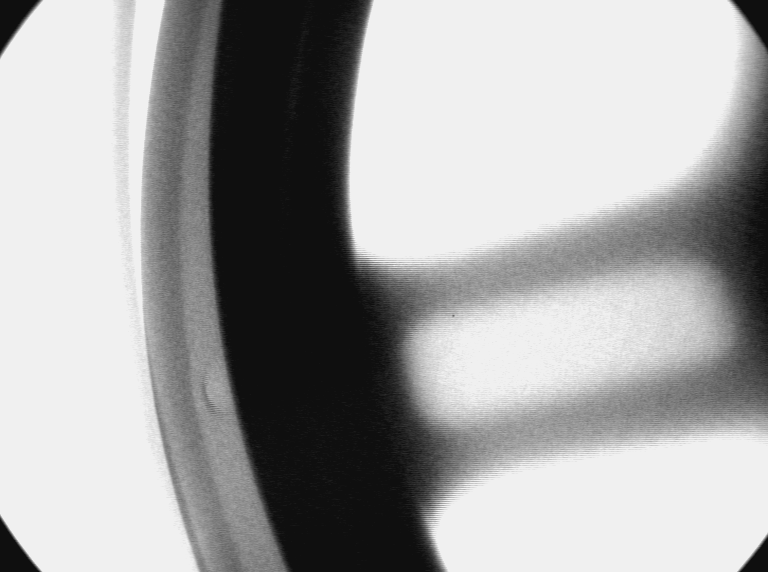defect: (205, 358, 241, 418)
